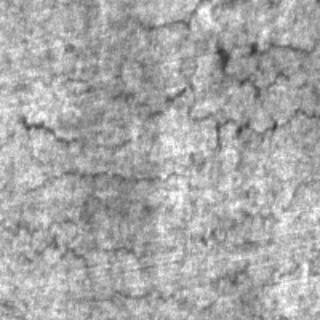crazing: (1, 32, 316, 192), (8, 234, 290, 304)
